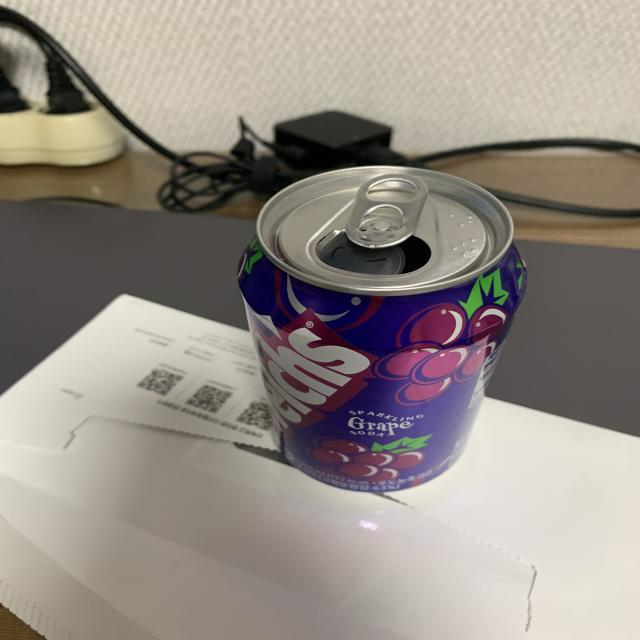metal-can: (239, 164, 532, 494)
